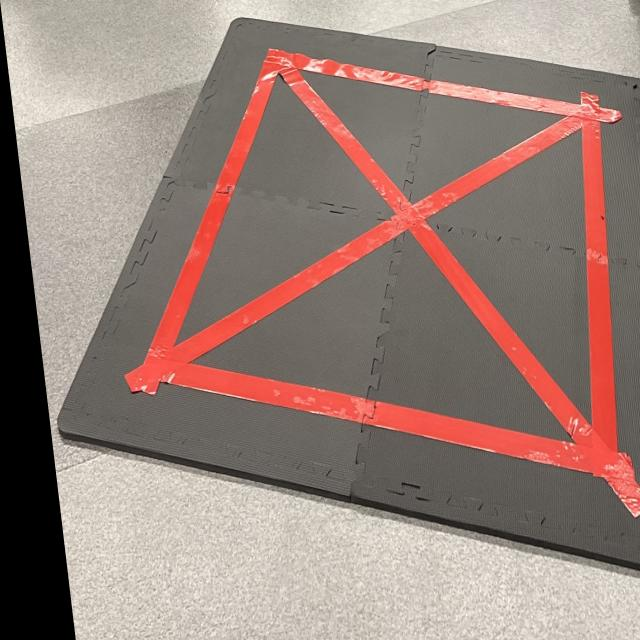landingPads: (11, 17, 640, 578)
